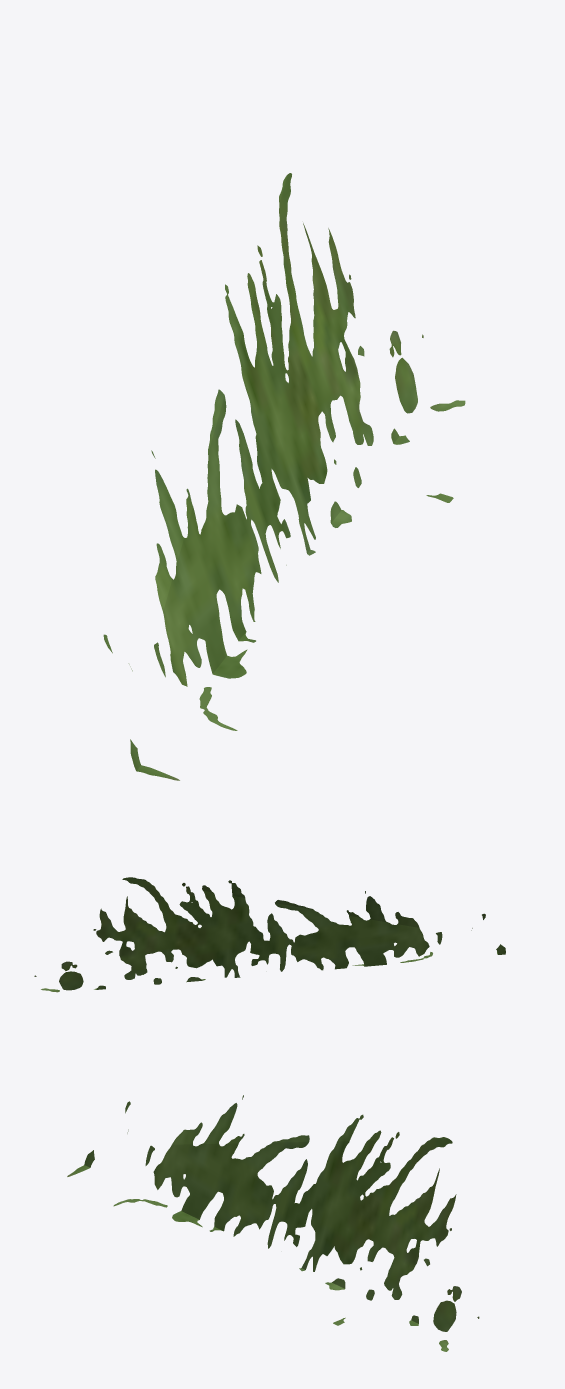
3 views of the same model, one above another, from view 1: azimuth 30°, elevation 25°; view 2: azimuth 150°, elevation 25°; view 3: azimuth 270°, elevation 25° (orthographic). The views are drawn at different scales.
Visible parts, largest first — view 1: mesh_27; view 2: mesh_27; view 3: mesh_27.
Boxes of the visible parts, <box> form: mesh_27: <box>103,173,465,780</box>; mesh_27: <box>34,877,505,992</box>; mesh_27: <box>67,1095,479,1351</box>.
Size of the model in its own units: 1.03 by 0.4283 by 1.01.
